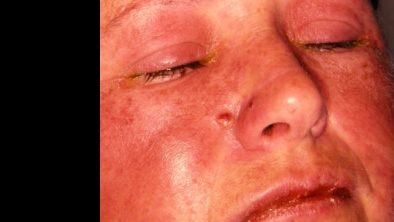SJS-TEN: (118, 41, 231, 95), (233, 175, 359, 222), (207, 93, 264, 132)
